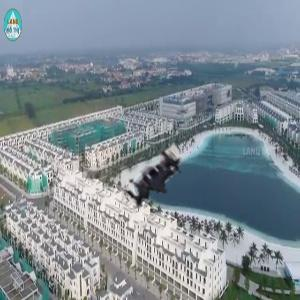drone: (105, 132, 201, 228)
